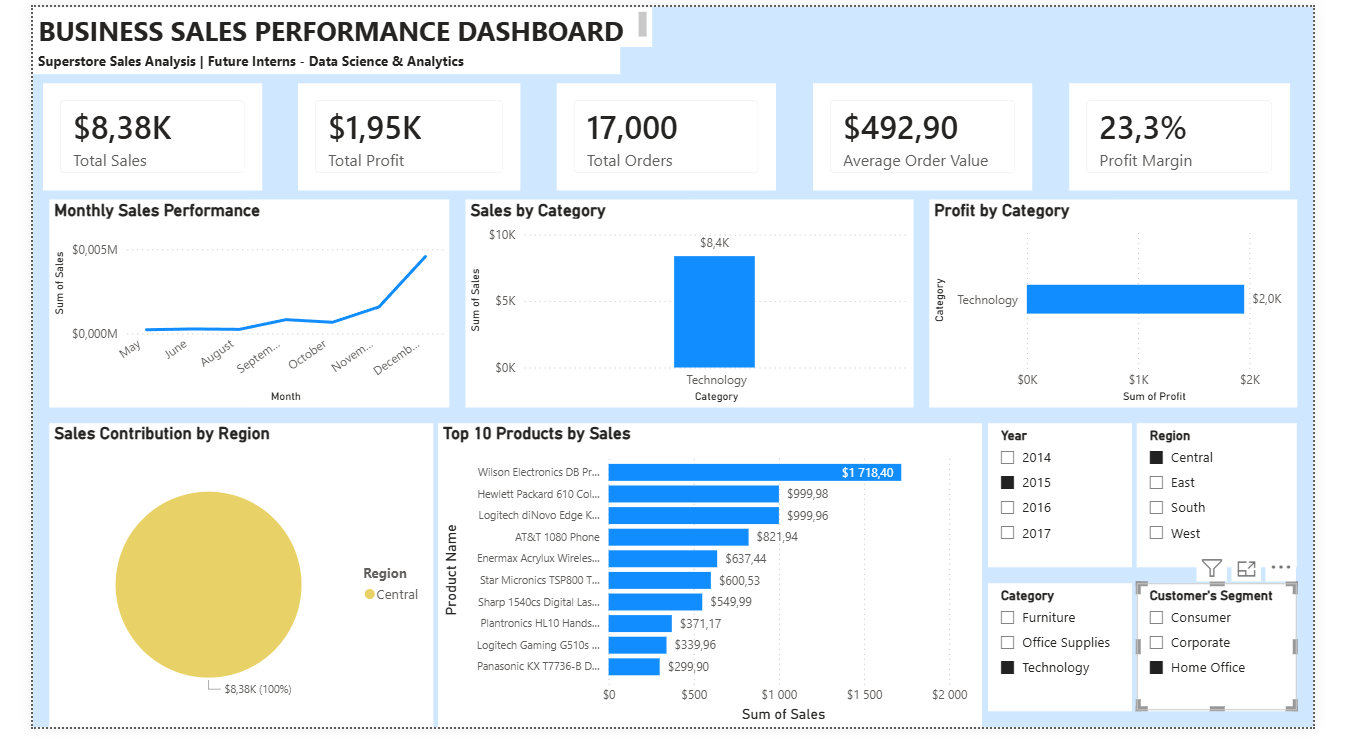

The dashboard page shown, as its layout file describes it:
{"tool":"powerbi","page":{"name":"Sales Performance Dashboard","canvas":[1280,720],"ordinal":0},"visuals":[{"type":"textbox","box":[0,0,618.9,39.8],"z":0},{"type":"textbox","box":[0,39.8,587.3,27.4],"z":1000},{"type":"lineChart","title":"Monthly Sales Performance","fields":{"Y":["Sum(Sample - Superstore.Sales)"],"Category":["Sample - Superstore.Order Date.Variation.Date Hierarchy.Month"]},"box":[16,192,400,208],"z":2000},{"type":"clusteredColumnChart","title":" Sales by Category","fields":{"Category":["Sample - Superstore.Category"],"Y":["Sum(Sample - Superstore.Sales)"]},"box":[432,192,448,208],"z":3000},{"type":"pieChart","title":" Sales Contribution by Region","fields":{"Category":["Sample - Superstore.Region"],"Y":["Sum(Sample - Superstore.Sales)"]},"box":[16,416,384,304],"z":4000},{"type":"clusteredBarChart","title":"Top 10 Products by Sales","fields":{"Category":["Sample - Superstore.Product Name"],"Y":["Sum(Sample - Superstore.Sales)"]},"box":[405.3,416,544,304],"z":5000},{"type":"slicer","fields":{"Values":["Sample - Superstore.Order Date.Variation.Date Hierarchy.Year"]},"box":[954.7,416,144,144],"z":6000},{"type":"slicer","fields":{"Values":["Sample - Superstore.Region"]},"box":[1104,416,160,144],"z":7000},{"type":"slicer","fields":{"Values":["Sample - Superstore.Category"]},"box":[954.7,576,144,128],"z":8000},{"type":"slicer","fields":{"Values":["Sample - Superstore.Segment"]},"box":[1104,576,160,128],"z":9000},{"type":"cardVisual","title":"Sum Of Sales","fields":{"Data":["Sample - Superstore.Total Sales"]},"box":[9.6,76.8,219.6,107],"z":10000},{"type":"cardVisual","title":"Sum Of Profit","fields":{"Data":["Sample - Superstore.Total Profit"]},"box":[265.5,76.8,222.3,107],"z":11000},{"type":"cardVisual","title":"Total Orders","fields":{"Data":["Sample - Superstore.Total Orders"]},"box":[524.2,76.8,219.6,107],"z":12000},{"type":"cardVisual","title":"Average Order Value","fields":{"Data":["Sample - Superstore.Average Order Value"]},"box":[780.1,76.8,219.6,107],"z":13000},{"type":"cardVisual","title":"Profit Margin","fields":{"Data":["Sample - Superstore.Profit Margin"]},"box":[1036,76.8,220.9,107],"z":14000},{"type":"clusteredBarChart","title":" Profit by Category","fields":{"Category":["Sample - Superstore.Category"],"Y":["Sum(Sample - Superstore.Profit)"]},"box":[896,192,368,208],"z":15000}]}

Visuals, with their boxes on the page's 1280x720 design canvas (x1, y1, x2, y2). These are canvas units, not pixel positions in the 1354x739 screenshot, which may show the page scaled, cropped or inside an application window:
textbox: box(0, 0, 619, 40)
textbox: box(0, 40, 587, 67)
"Monthly Sales Performance" lineChart: box(16, 192, 416, 400)
" Sales by Category" clusteredColumnChart: box(432, 192, 880, 400)
" Sales Contribution by Region" pieChart: box(16, 416, 400, 720)
"Top 10 Products by Sales" clusteredBarChart: box(405, 416, 949, 720)
slicer - Sample - Superstore.Order Date.Variation.Date Hierarchy.Year: box(955, 416, 1099, 560)
slicer - Sample - Superstore.Region: box(1104, 416, 1264, 560)
slicer - Sample - Superstore.Category: box(955, 576, 1099, 704)
slicer - Sample - Superstore.Segment: box(1104, 576, 1264, 704)
"Sum Of Sales" cardVisual: box(10, 77, 229, 184)
"Sum Of Profit" cardVisual: box(266, 77, 488, 184)
"Total Orders" cardVisual: box(524, 77, 744, 184)
"Average Order Value" cardVisual: box(780, 77, 1000, 184)
"Profit Margin" cardVisual: box(1036, 77, 1257, 184)
" Profit by Category" clusteredBarChart: box(896, 192, 1264, 400)
